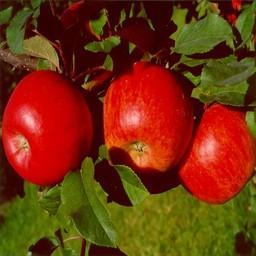apple: (104, 61, 195, 183), (1, 71, 92, 185), (178, 104, 255, 204)
